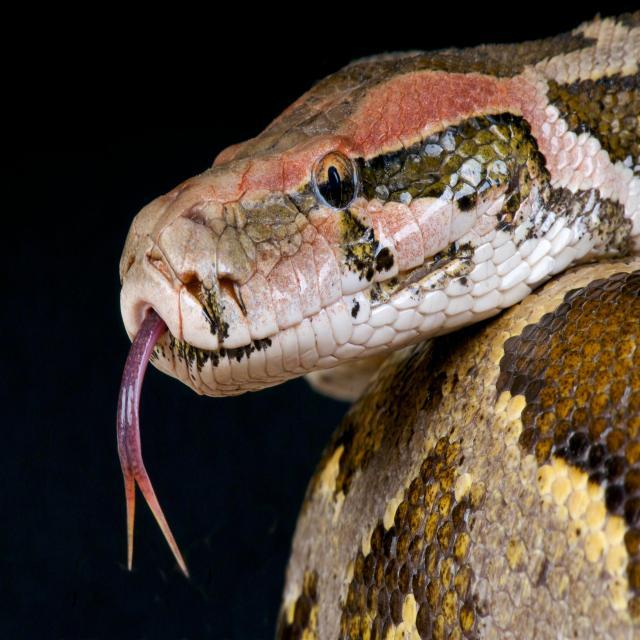Snake: (77, 0, 628, 640)
